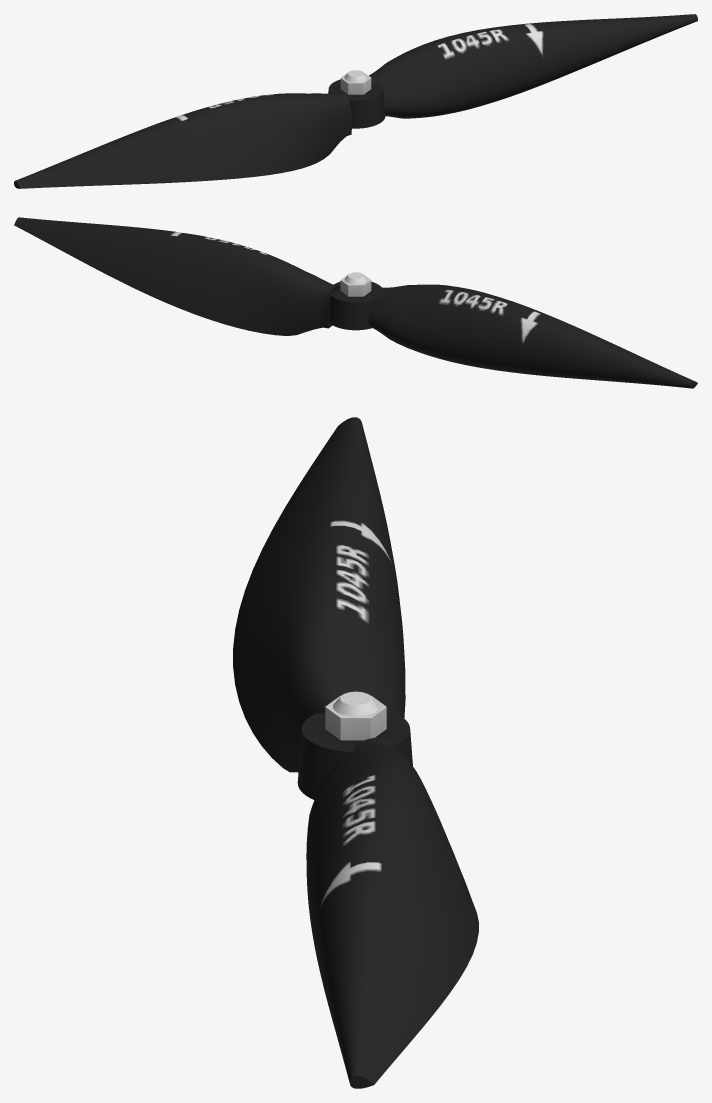
The model's file is prop_1045_cw_visual.glb.
3 renders of one model, top to bottom at view 1: azimuth 30°, elevation 25°; view 2: azimuth 150°, elevation 25°; view 3: azimuth 270°, elevation 25°, orthographic. The views are drawn at different scales.
Parts seen in each view (by area): view 1: prop_1045_cw; view 2: prop_1045_cw; view 3: prop_1045_cw.
Boxes of the visible parts, <box> form: prop_1045_cw: <box>14,14,697,188</box>; prop_1045_cw: <box>14,217,697,388</box>; prop_1045_cw: <box>233,417,478,1088</box>.
Bounding box in the file's own units: 0.254 × 0.0238 × 0.0401.
Materials: 3 (3 with a texture image).
